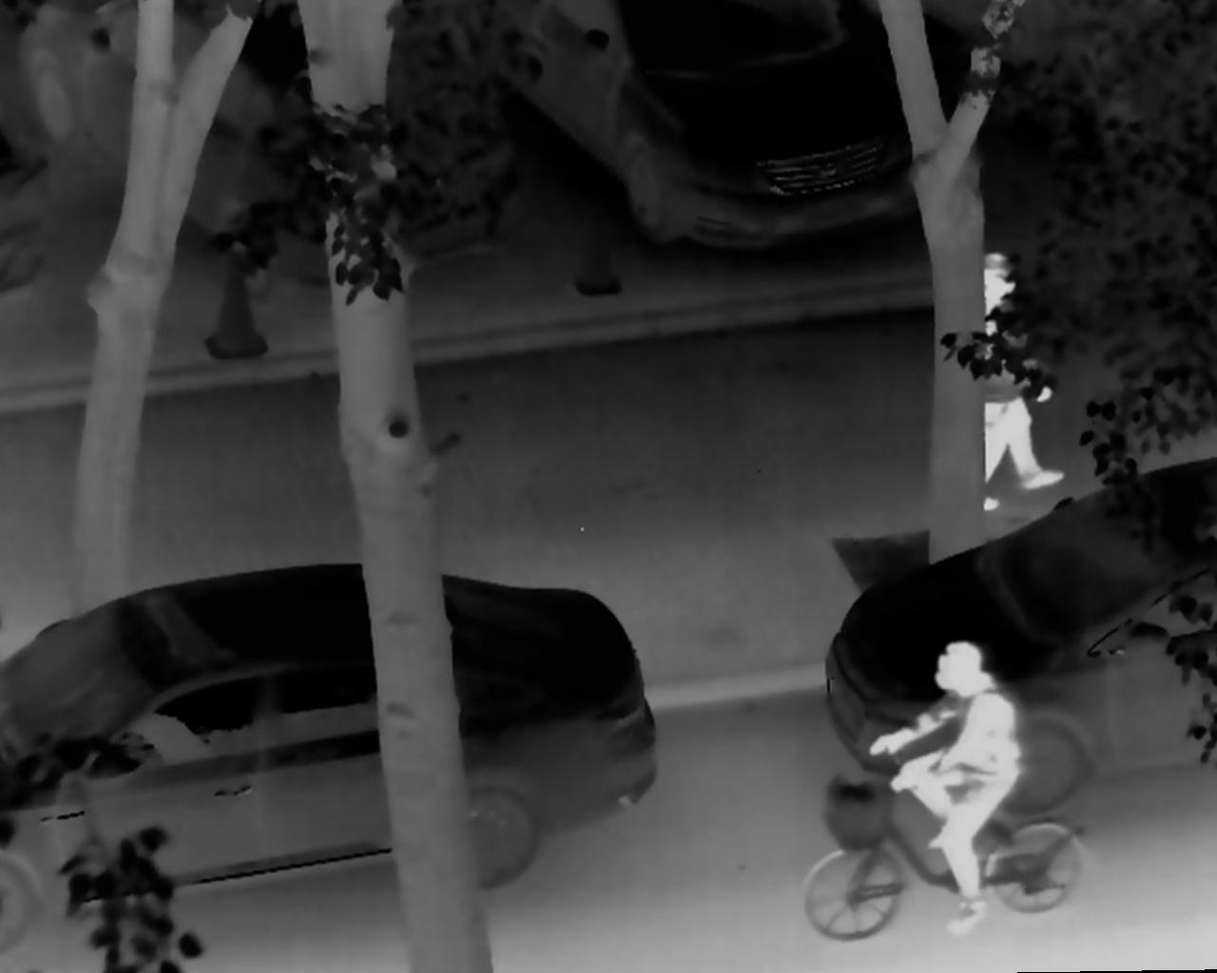person: (869, 632, 1021, 942), (959, 252, 1068, 513)
